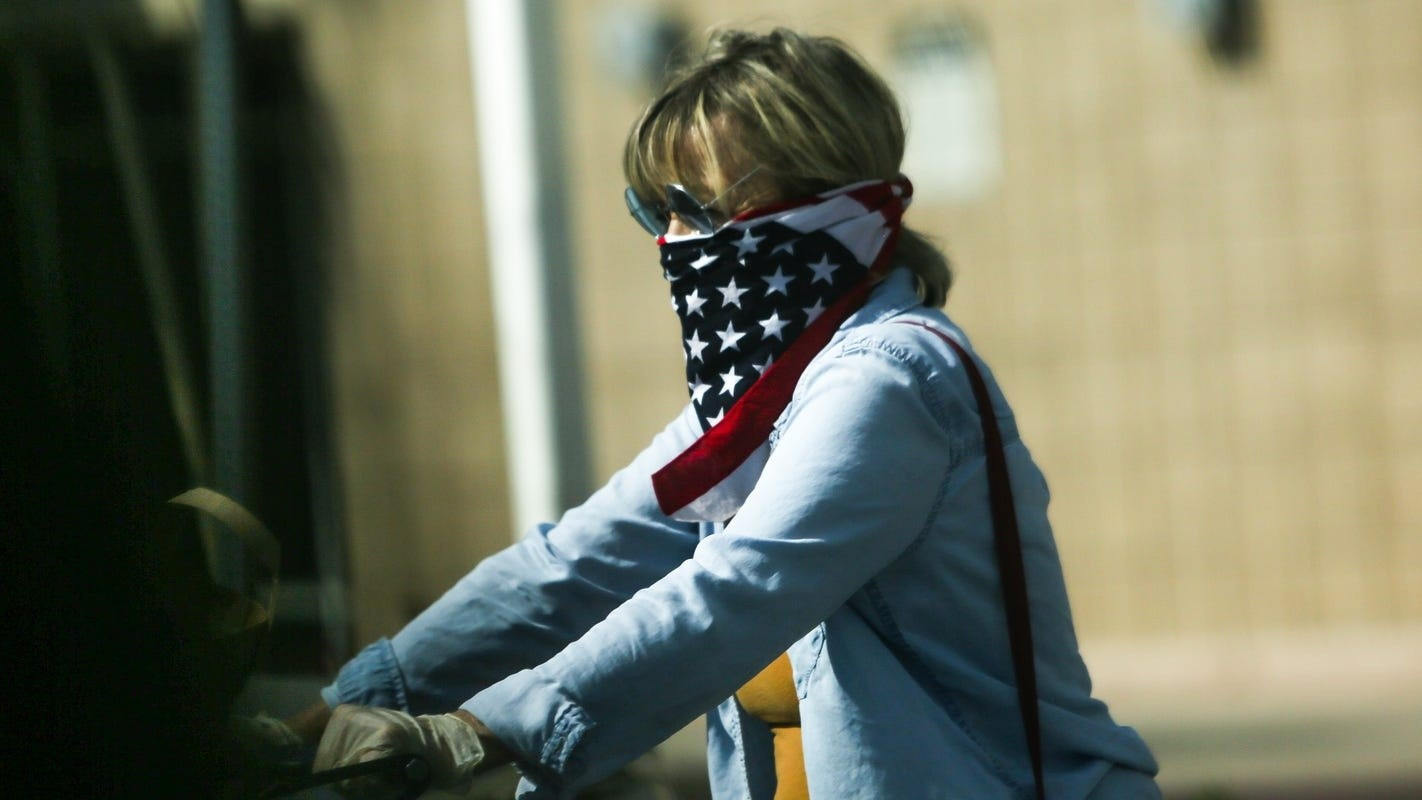face_with_mask: (631, 47, 913, 351)
